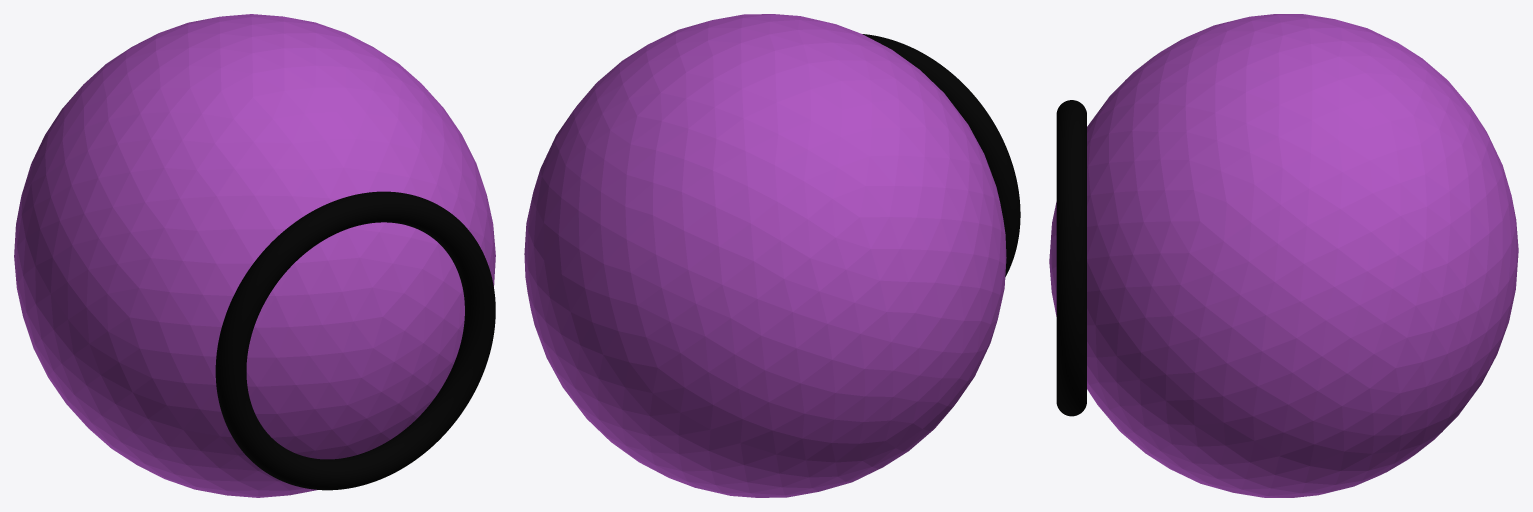
The model's file is G03_DEFORM_GROW.glb.
The picture shows the model from 3 angles, left to right: view 1: azimuth 30°, elevation 25°; view 2: azimuth 150°, elevation 25°; view 3: azimuth 270°, elevation 25°; orthographic projection.
Visible parts, largest first — view 1: G03_DEFORM_GROW, Ring_CAD; view 2: G03_DEFORM_GROW, Ring_CAD; view 3: G03_DEFORM_GROW, Ring_CAD.
Boxes of the visible parts, x1,y1,x2,y2 form: G03_DEFORM_GROW: [14, 14, 495, 497]; Ring_CAD: [215, 191, 495, 490]; G03_DEFORM_GROW: [524, 14, 1006, 497]; Ring_CAD: [862, 34, 1020, 276]; G03_DEFORM_GROW: [1049, 14, 1518, 497]; Ring_CAD: [1056, 100, 1086, 416].
Size of the model in its own units: 0.0187 by 0.0189 by 0.0184.
